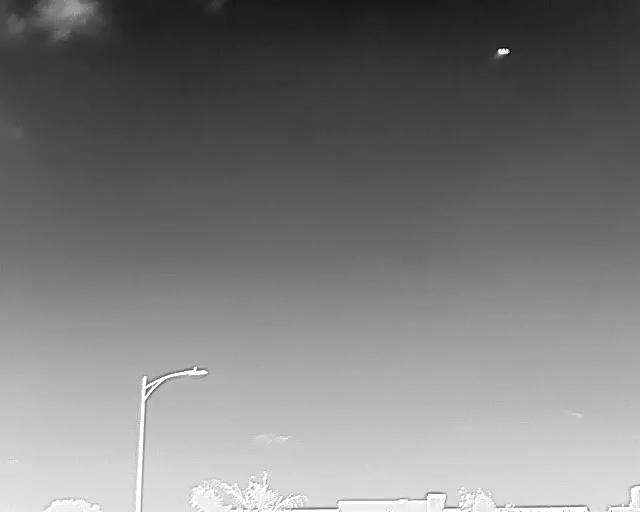fpv-drone: (494, 47, 510, 59)
